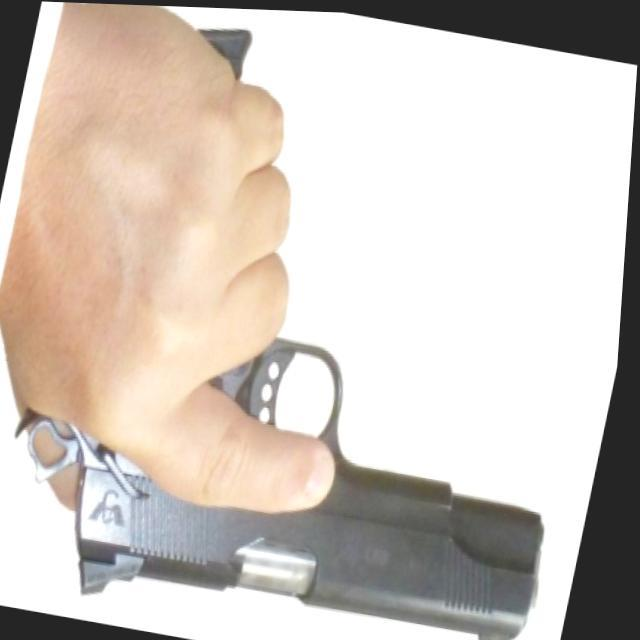gun: (36, 12, 640, 640)
